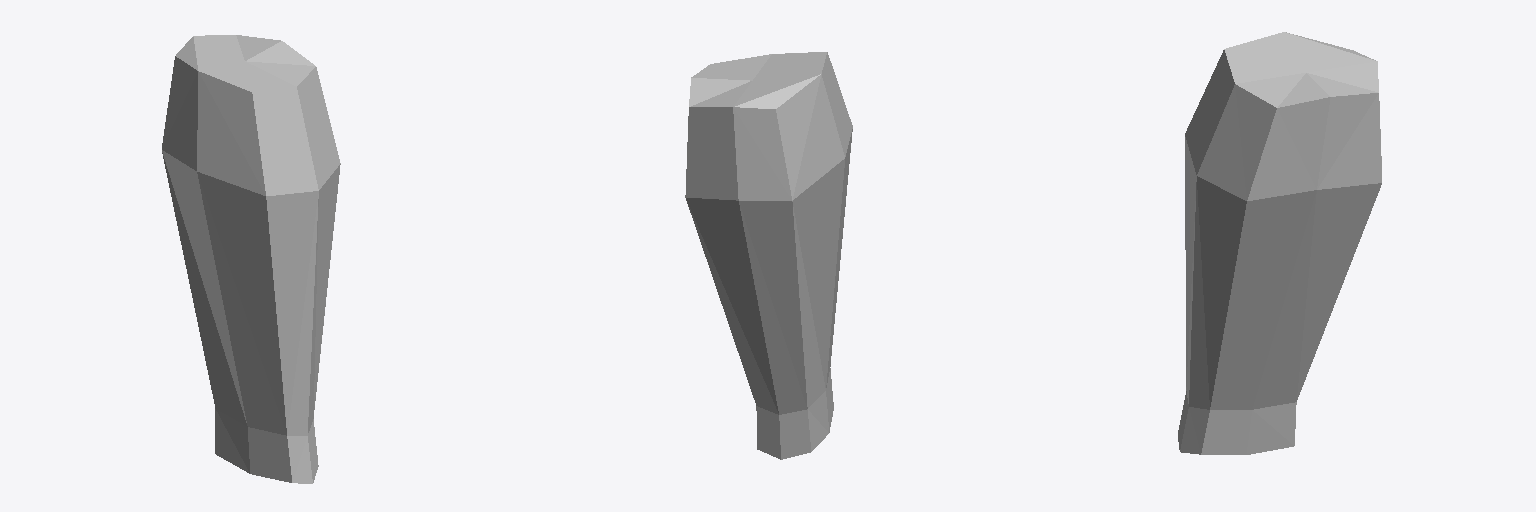
The model's file is ArmL.obj.
3 renders of one model, left to right at view 1: azimuth 30°, elevation 25°; view 2: azimuth 150°, elevation 25°; view 3: azimuth 270°, elevation 25°, orthographic.
Visible parts, largest first — view 1: ArmL_Cube.004; view 2: ArmL_Cube.004; view 3: ArmL_Cube.004.
Part boxes in pixels (left/top/right/bottom): ArmL_Cube.004: left=162, top=35, right=340, bottom=483; ArmL_Cube.004: left=685, top=52, right=852, bottom=459; ArmL_Cube.004: left=1178, top=32, right=1381, bottom=454.
Size of the model in its own units: 0.0851 by 0.2348 by 0.1107.